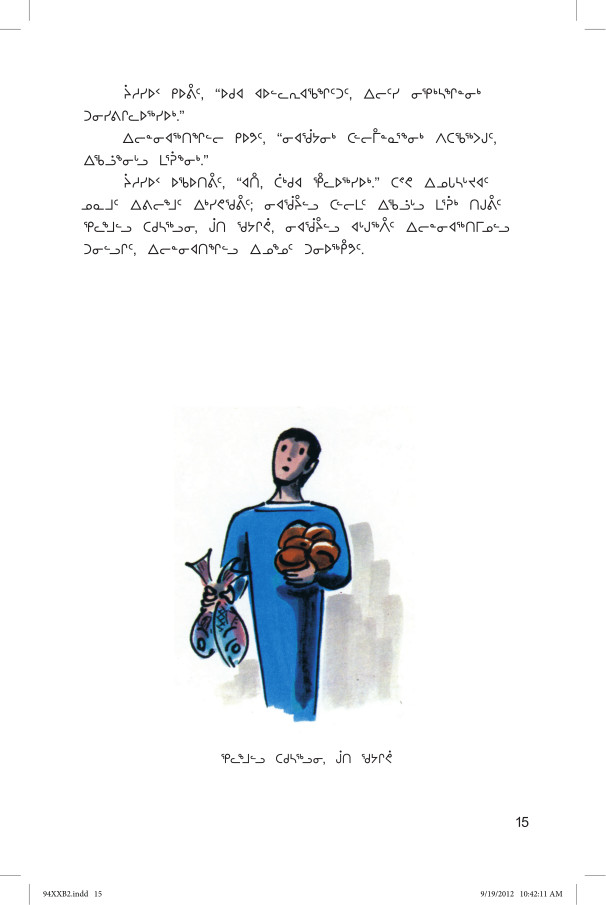inuktitut: (73, 76, 517, 269), (213, 743, 400, 769)
